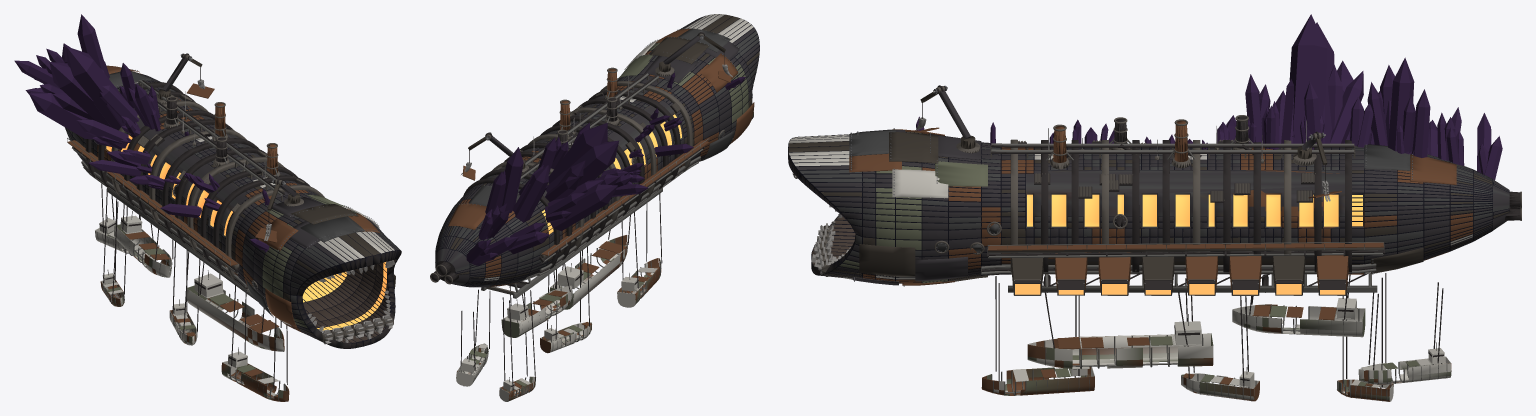
The model's file is Ferrox_Bienenstock.3c89798bb5.glb.
3 renders of one model, left to right at view 1: azimuth 30°, elevation 25°; view 2: azimuth 150°, elevation 25°; view 3: azimuth 270°, elevation 25°, orthographic. The views are drawn at different scales.
Visible parts, largest first — view 1: Ferrox_Bienenstock; view 2: Ferrox_Bienenstock; view 3: Ferrox_Bienenstock.
Part boxes in pixels (x1=…): Ferrox_Bienenstock: x1=14, y1=14, x2=401, y2=401; Ferrox_Bienenstock: x1=430, y1=14, x2=759, y2=401; Ferrox_Bienenstock: x1=788, y1=14, x2=1521, y2=401.
Size of the model in its own units: 146 by 218 by 422.
